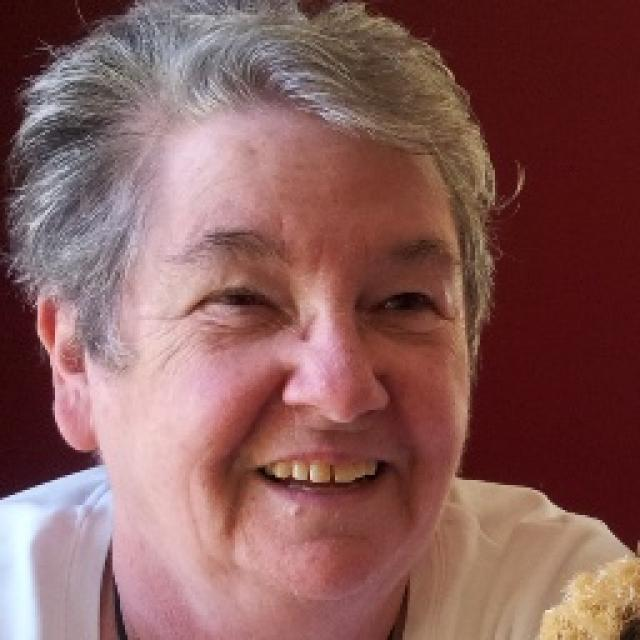earlobe: (34, 276, 103, 454)
